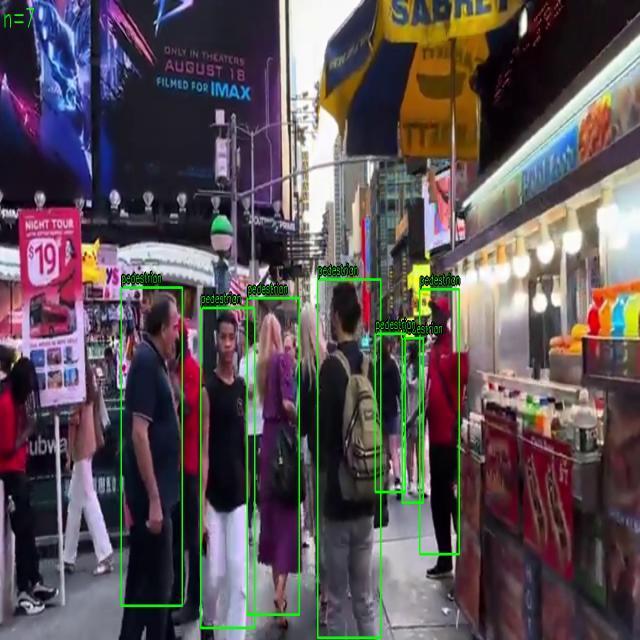with scooter: (318, 279, 380, 638), (121, 287, 183, 606), (200, 307, 256, 628), (247, 298, 300, 616), (420, 289, 460, 555), (374, 333, 406, 492), (402, 338, 424, 503)
